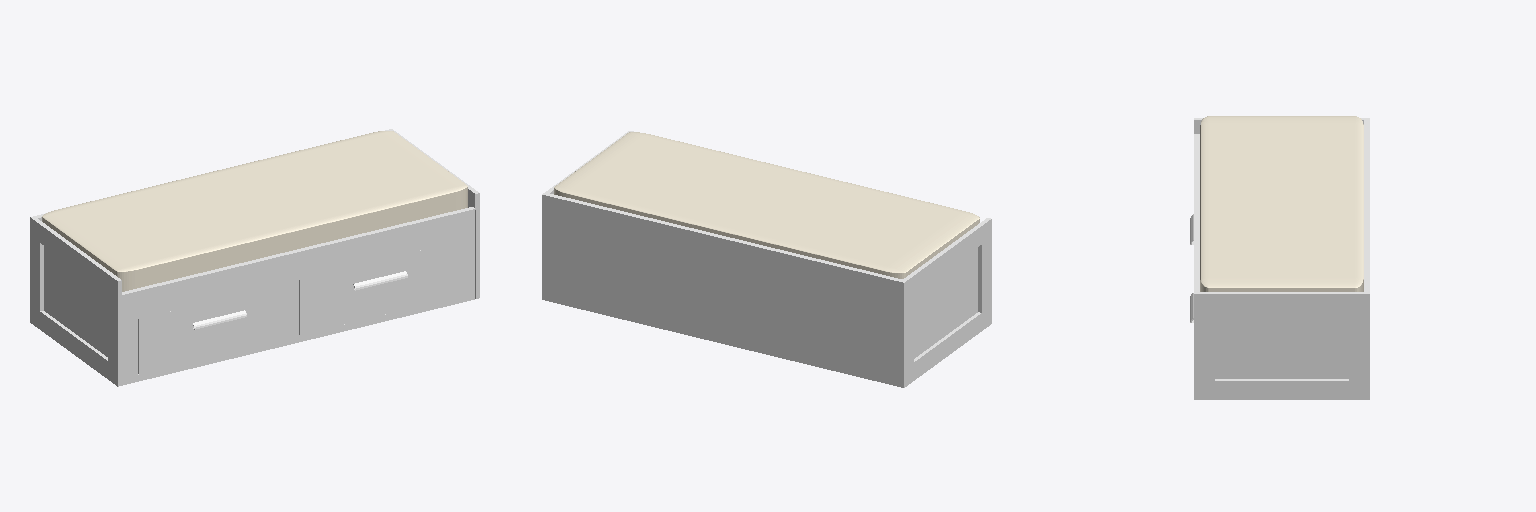
Rendered from DayBed_Brimnes.obj.
The picture shows the model from 3 angles: view 1: azimuth 30°, elevation 25°; view 2: azimuth 150°, elevation 25°; view 3: azimuth 270°, elevation 25°; orthographic projection.
Parts seen in each view (by area): view 1: obj_0; view 2: obj_0; view 3: obj_0.
Boxes of the visible parts, x1=… form: obj_0: x1=30, y1=129, x2=479, y2=386; obj_0: x1=542, y1=131, x2=991, y2=387; obj_0: x1=1190, y1=116, x2=1369, y2=399.
Size of the model in its own units: 205 by 59.75 by 88.